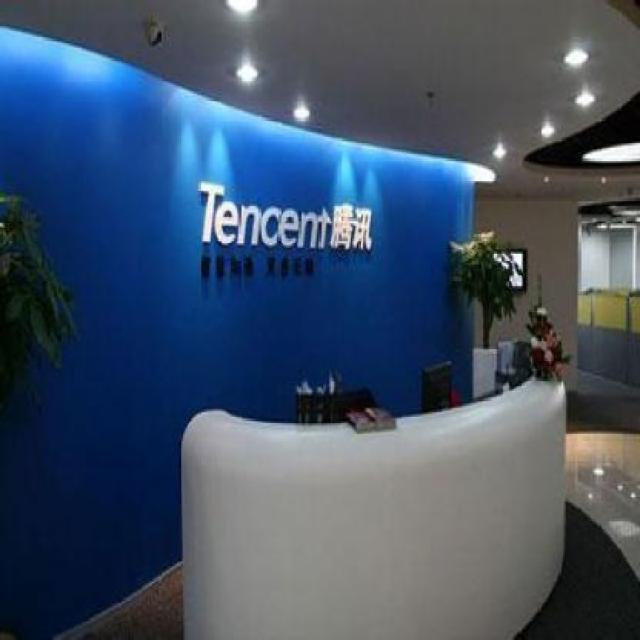frontdesk: (169, 332, 577, 640)
